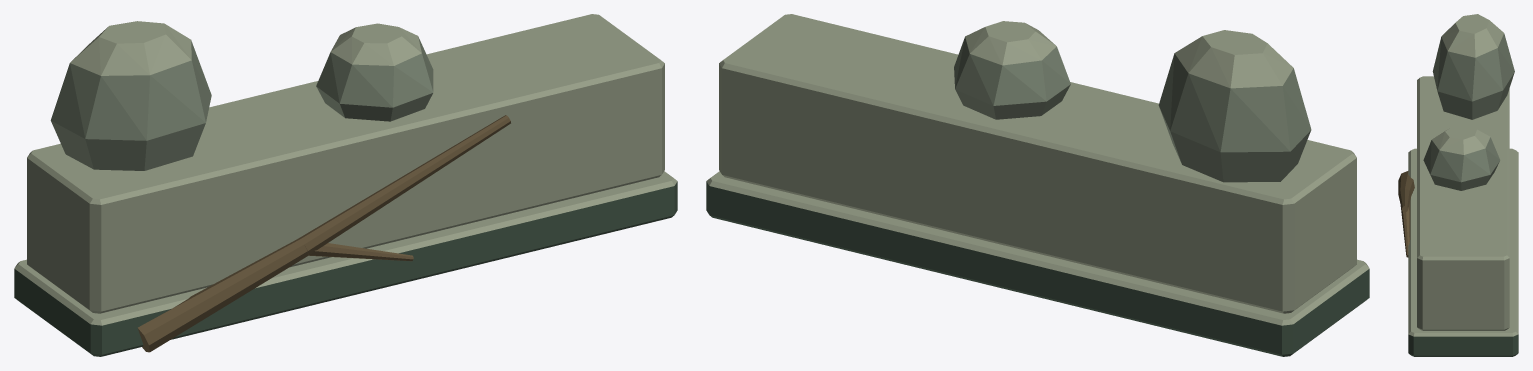
Rendered from wall-broken.glb.
The picture shows the model from 3 angles, left to right: view 1: azimuth 30°, elevation 25°; view 2: azimuth 150°, elevation 25°; view 3: azimuth 270°, elevation 25°; orthographic projection. The views are drawn at different scales.
Parts seen in each view (by area): view 1: wall-broken__body; view 2: wall-broken__body; view 3: wall-broken__body.
Part boxes in pixels (bbox=[...]): wall-broken__body: bbox=[14, 14, 677, 356]; wall-broken__body: bbox=[706, 14, 1369, 356]; wall-broken__body: bbox=[1398, 14, 1518, 356].
Size of the model in its own units: 2 by 0.8927 by 0.545.
